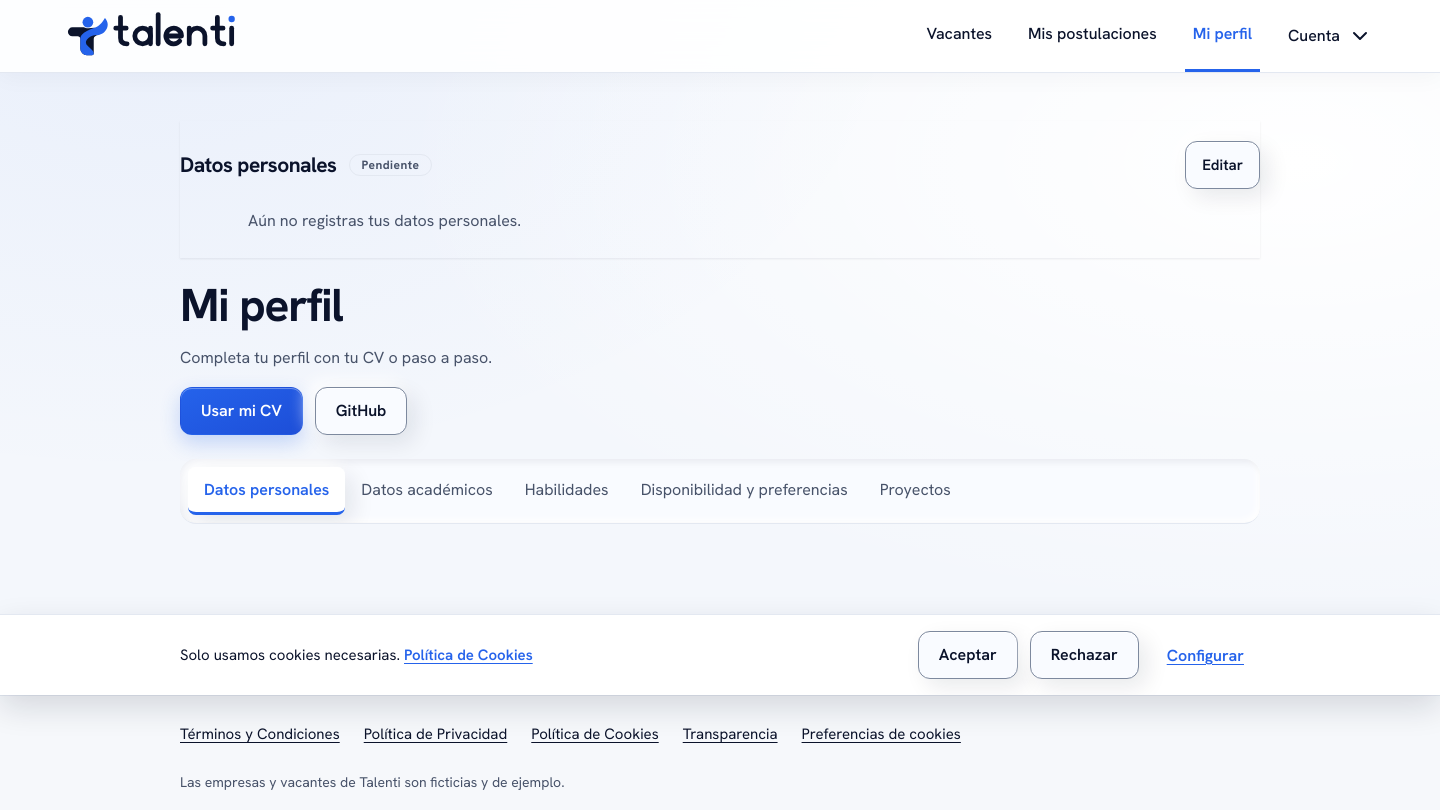
Test: Page /perfil: states and progress (006-14, 006-20) › a complete profile still permits editing and has no completion gate
Check: the navigation bar named "Mi perfil" is shown, box [180,458,1260,524]
Click the button "Datos académicos" at (427, 490), box [345,466,509,514]
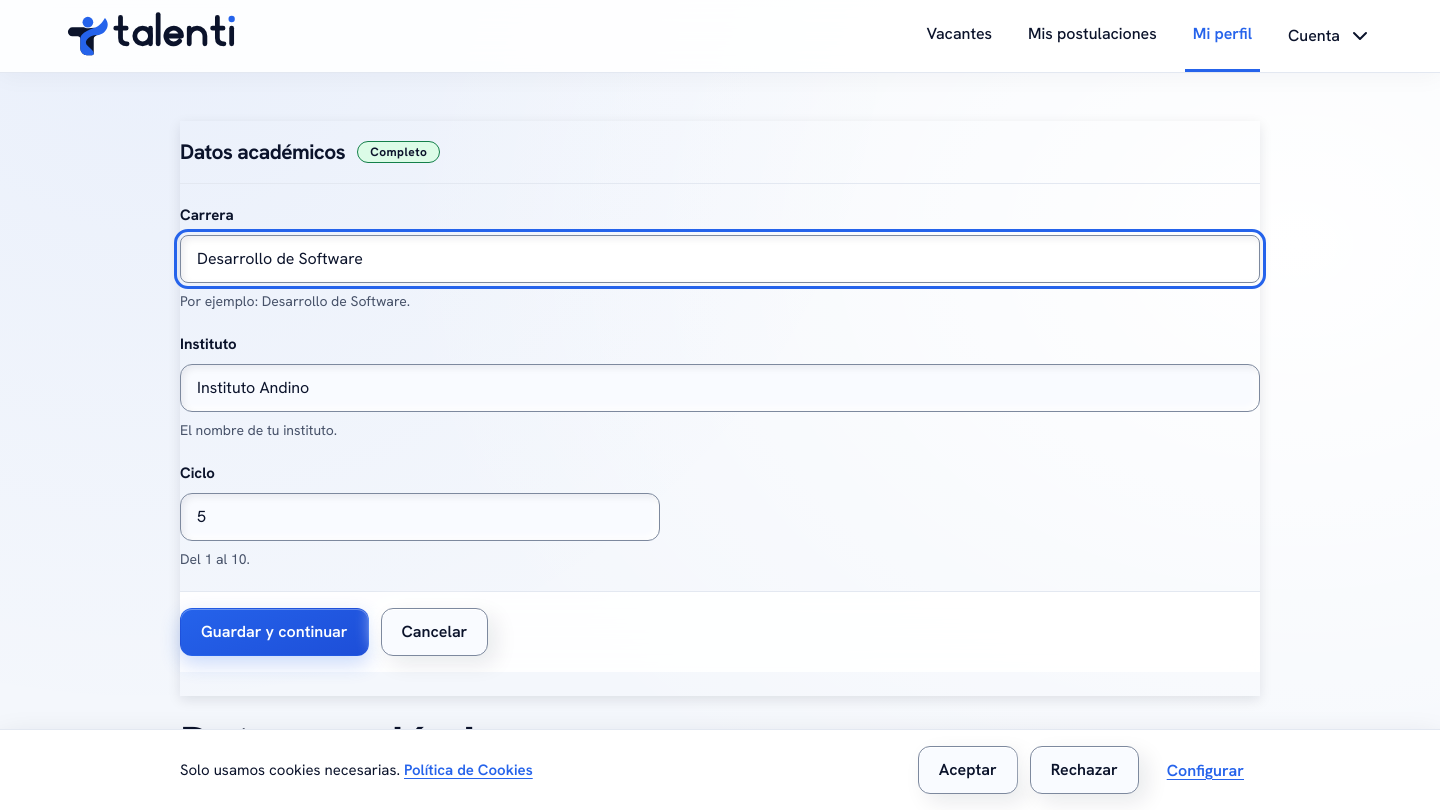
Check: the field labelled "Carrera" holds "Desarrollo de Software", box [180,235,1260,283]
Check: the button "Guardar y continuar" is enabled, box [180,608,368,656]
